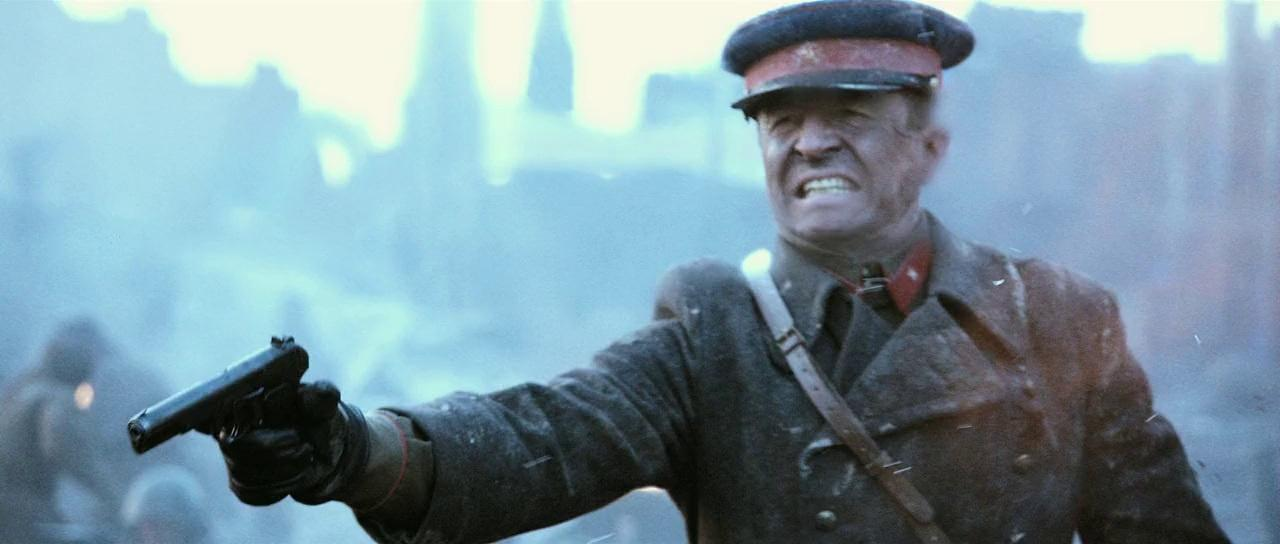gun: (116, 336, 355, 499)
